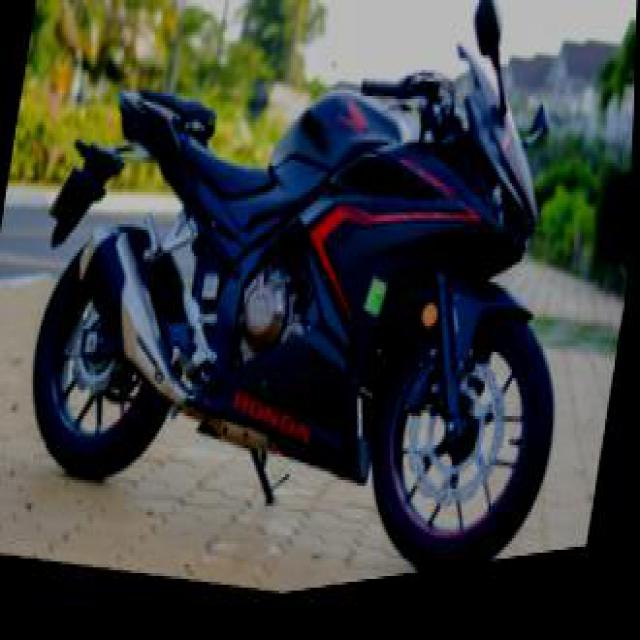CBR500R: (6, 0, 615, 634)
